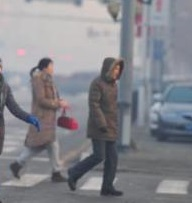person: (66, 56, 132, 197), (9, 56, 71, 184)
